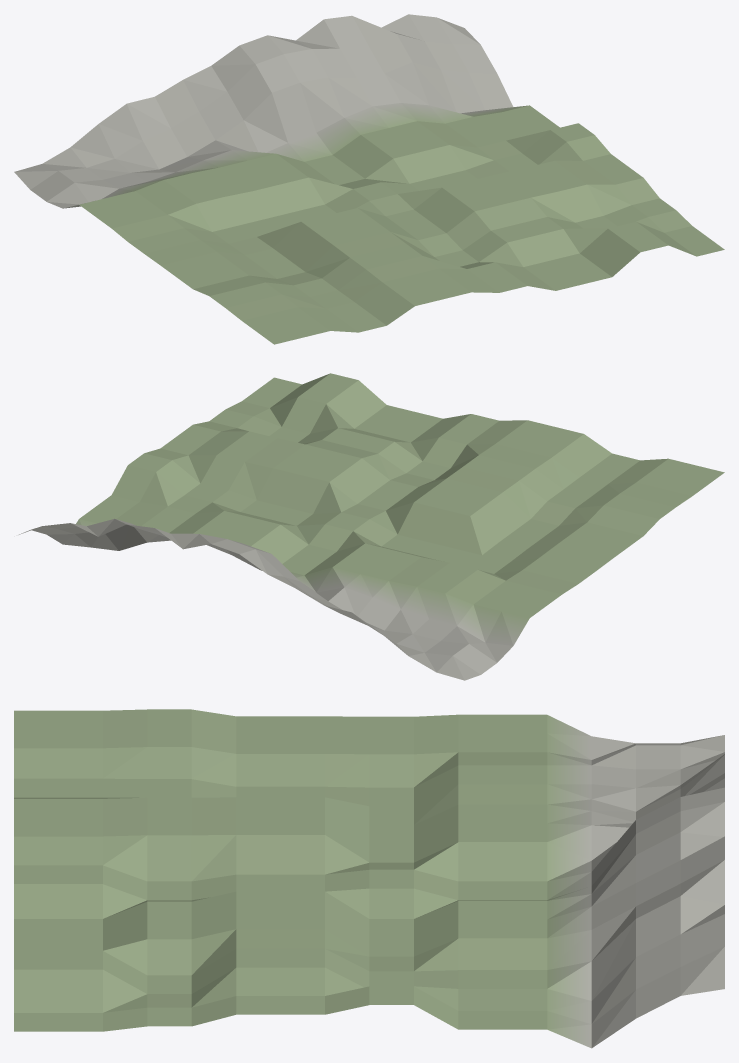
3 renders of one model, top to bottom at view 1: azimuth 30°, elevation 25°; view 2: azimuth 150°, elevation 25°; view 3: azimuth 270°, elevation 25°, orthographic. The views are drawn at different scales.
Bounding box in the file's own units: 32 × 5.88 × 32.
